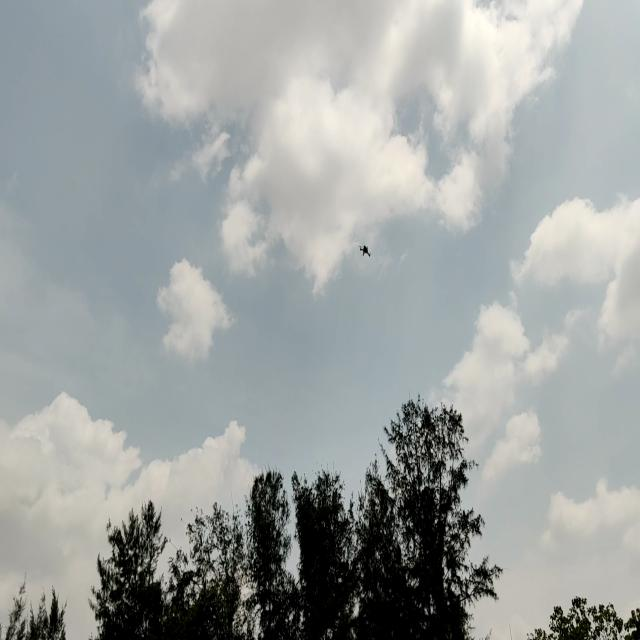drone: (357, 236, 374, 266)
